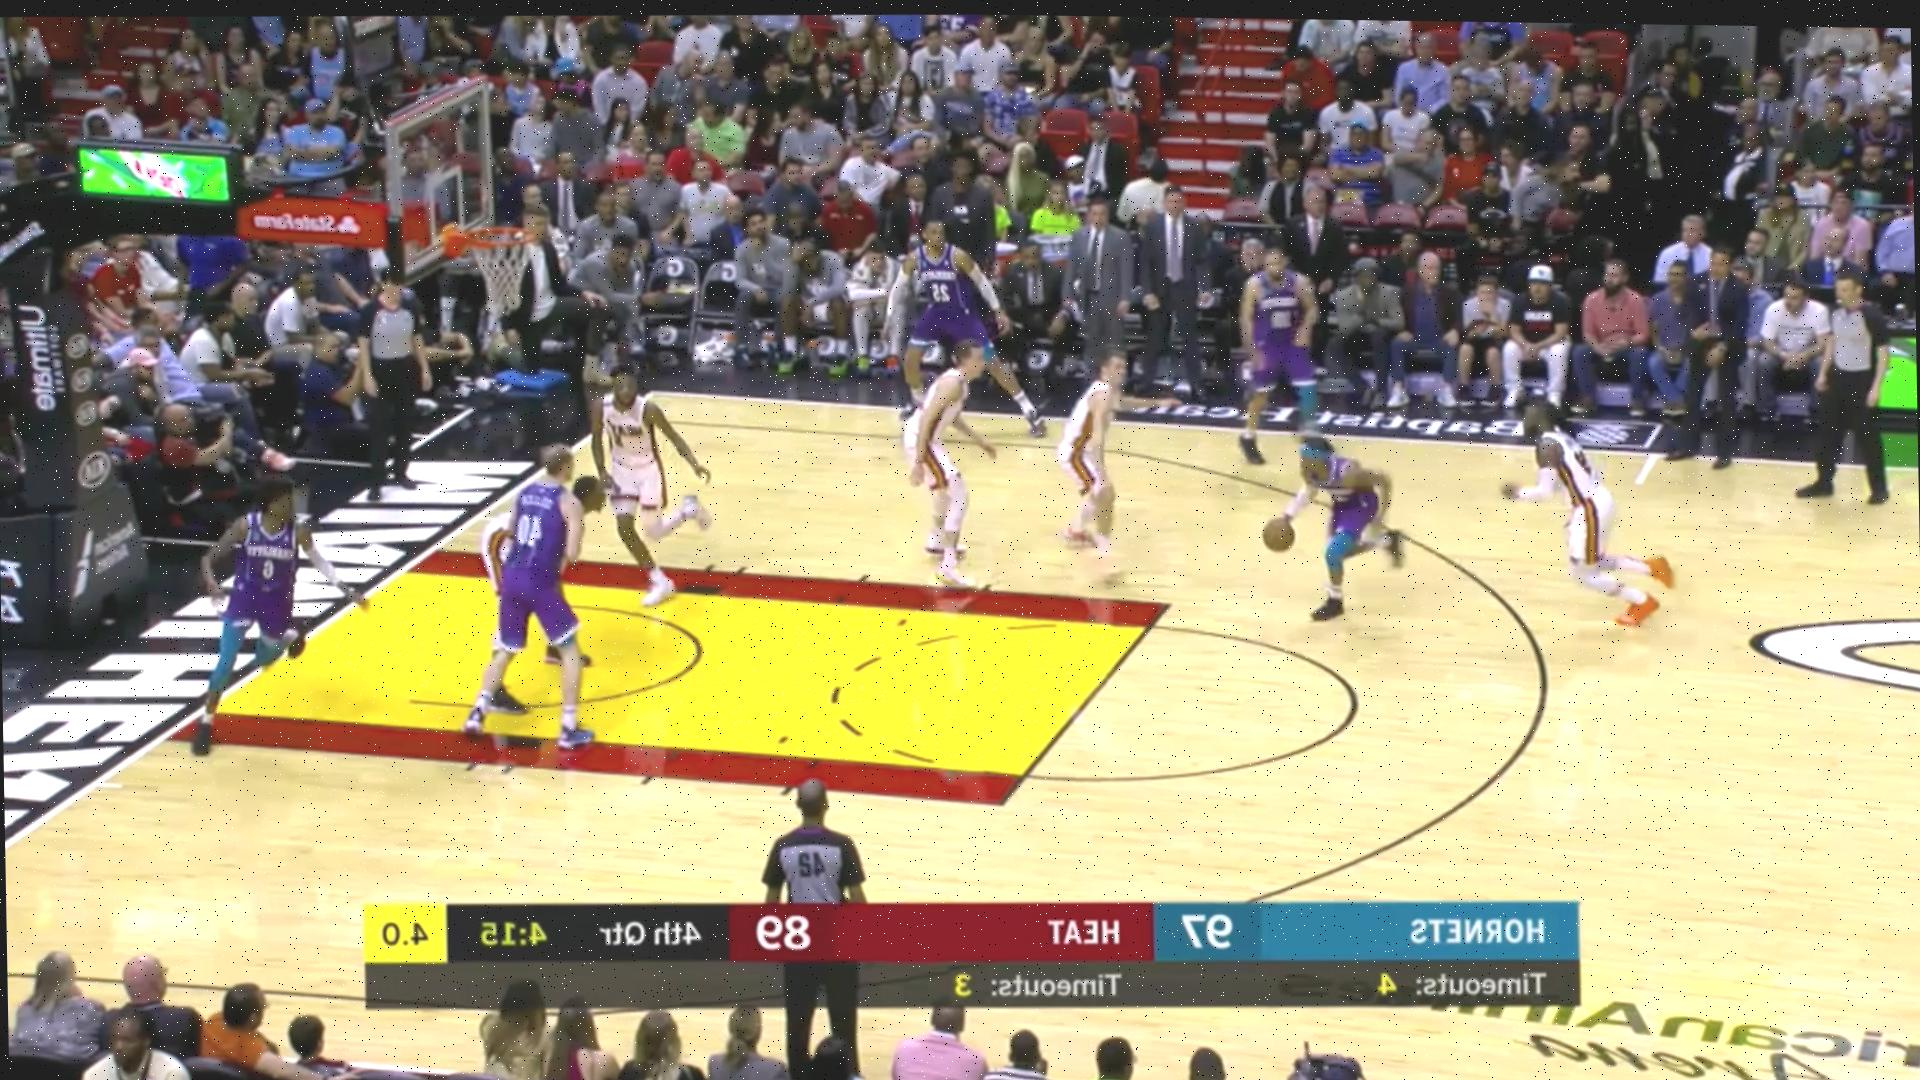no_foul: (495, 360, 686, 735)
